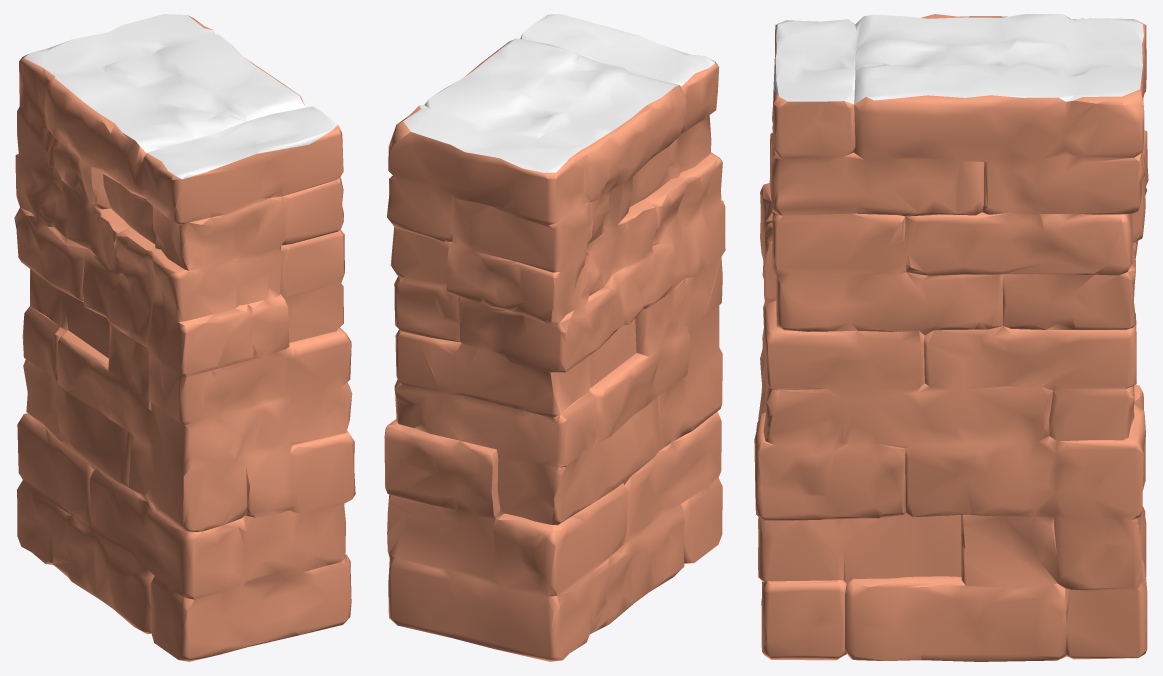
Rendered from Wall6_fbx.fbx.
3 renders of one model, left to right at view 1: azimuth 30°, elevation 25°; view 2: azimuth 150°, elevation 25°; view 3: azimuth 270°, elevation 25°, orthographic. The views are drawn at different scales.
Visible parts, largest first — view 1: Wall6; view 2: Wall6; view 3: Wall6.
Boxes of the visible parts, x1,y1,x2,y2 form: Wall6: (14, 14, 355, 661); Wall6: (384, 14, 725, 661); Wall6: (754, 14, 1148, 661).
Bounding box in the file's own units: 0.6554 × 1.7 × 1.08.
